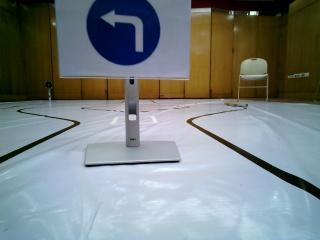left: (60, 0, 180, 71)
